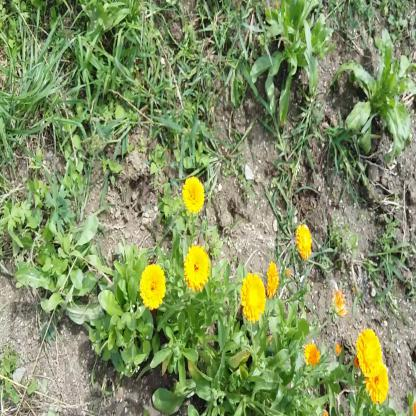marigold: (183, 246, 209, 291), (358, 328, 381, 376), (240, 276, 265, 320), (140, 266, 166, 308), (366, 360, 388, 402), (181, 177, 204, 213), (298, 226, 313, 260), (266, 264, 278, 299)
